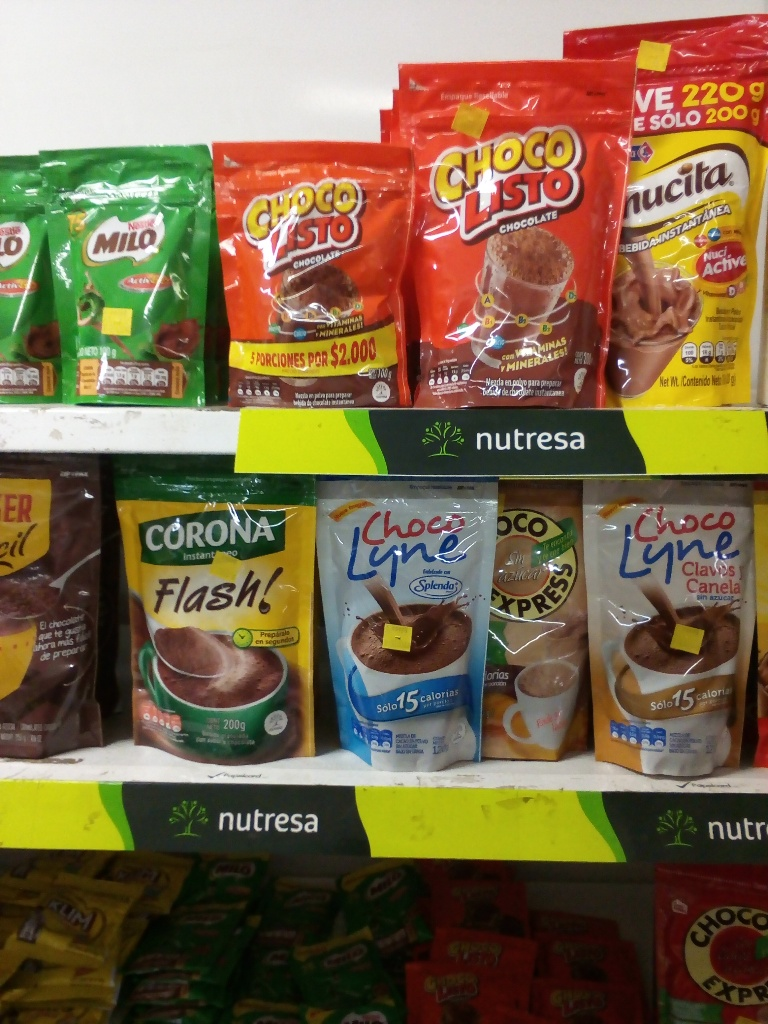COL0170103SOB02000: (407, 958, 512, 1020)
COL0170203DYP10000: (46, 140, 229, 407)
